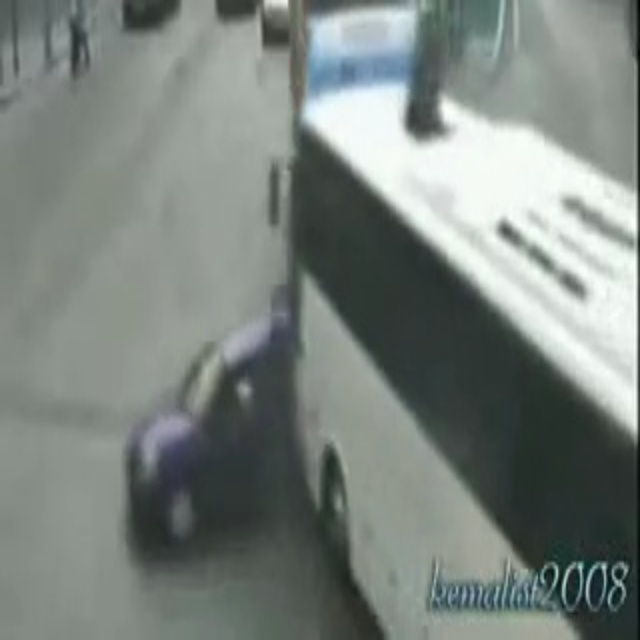acc: (100, 25, 487, 589)
